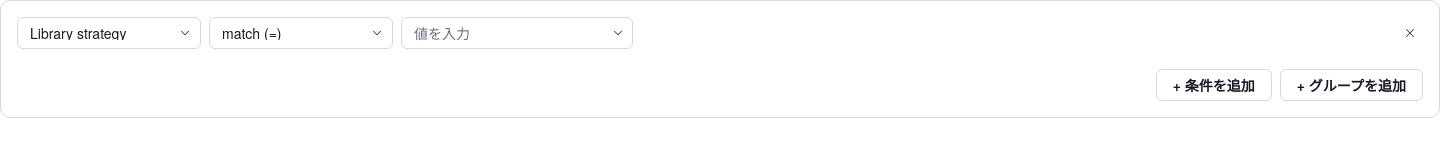
Test: ConditionRow facet value input › perDbFacetField_rendersComboboxInThatScope
This screenshot has width=1440, height=160.
Press the mouse on the dropdown labelled "値を入力" at (517, 33), box [401,17,633,49]
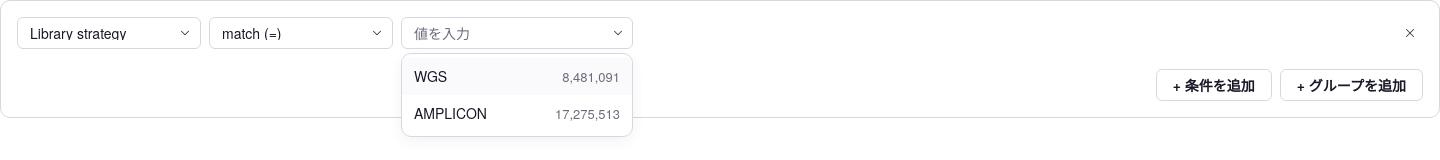
Now the option "WGS 8,481,091" is shown, box [402,58,632,95]
